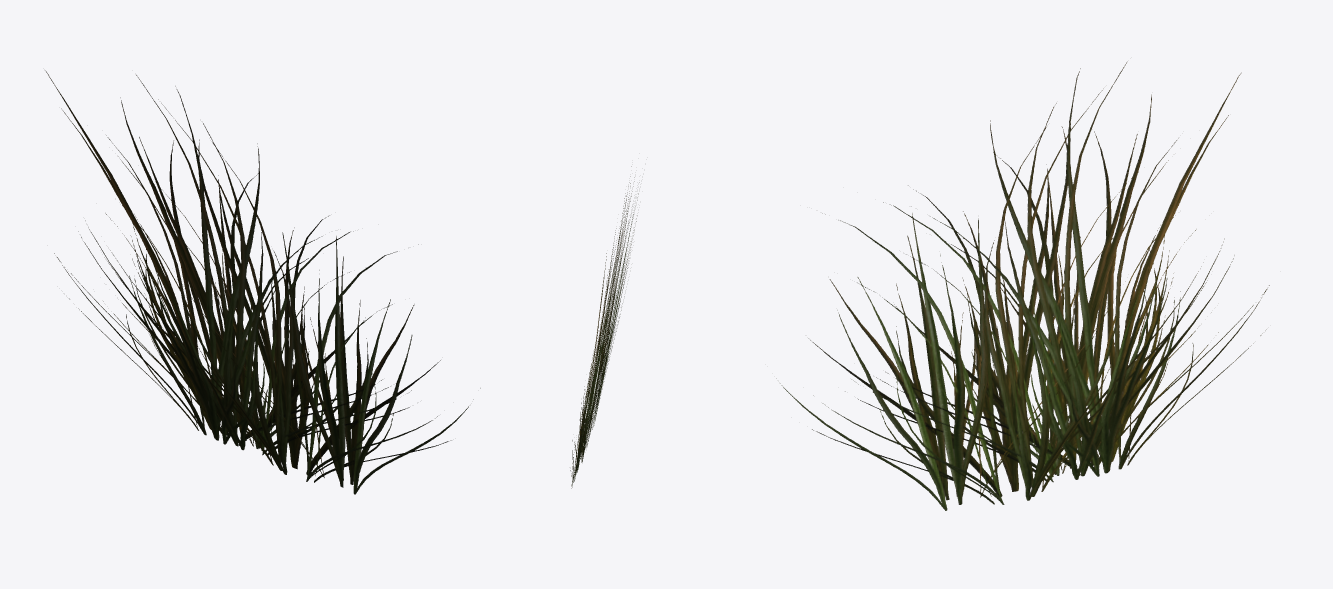
The model's file is grass_0_LOD2.fbx.
The picture shows the model from 3 angles, left to right: view 1: azimuth 30°, elevation 25°; view 2: azimuth 150°, elevation 25°; view 3: azimuth 270°, elevation 25°; orthographic projection. The views are drawn at different scales.
Parts seen in each view (by area): view 1: grass_0; view 2: grass_0; view 3: grass_0.
Part boxes in pixels (x1=…): grass_0: x1=45, y1=70, x2=480, y2=494; grass_0: x1=570, y1=166, x2=639, y2=488; grass_0: x1=776, y1=61, x2=1269, y2=510.
Bounding box in the file's own units: 47.4 × 79.43 × 99.73.
1 material, 1 textured.
